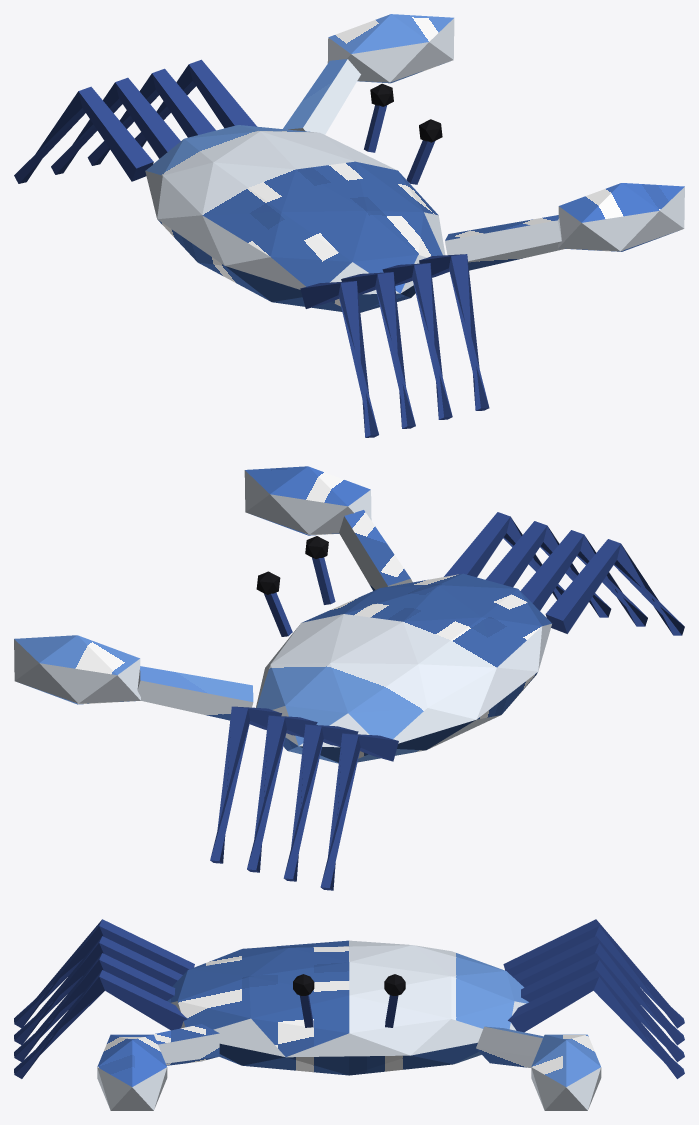
The model's file is blue_swimmer_crab.glb.
3 renders of one model, top to bottom at view 1: azimuth 30°, elevation 25°; view 2: azimuth 150°, elevation 25°; view 3: azimuth 270°, elevation 25°, orthographic. The views are drawn at different scales.
Parts seen in each view (by area): view 1: fish_blue_swimmer_crab; view 2: fish_blue_swimmer_crab; view 3: fish_blue_swimmer_crab.
Boxes of the visible parts, box(x1,y1,x2,y2) form: fish_blue_swimmer_crab: box(14, 14, 684, 437); fish_blue_swimmer_crab: box(14, 466, 684, 890); fish_blue_swimmer_crab: box(14, 919, 684, 1110).
Bounding box in the file's own units: 0.7228 × 0.2887 × 1.17.
3 materials, 1 textured.
